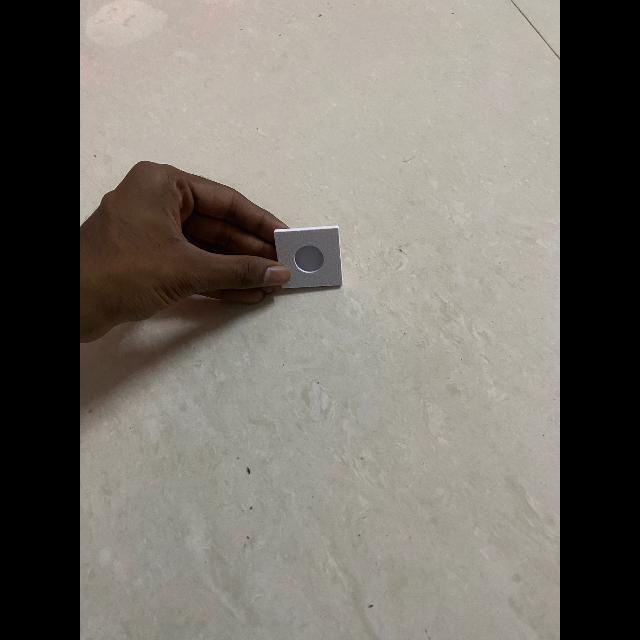RASPBERY PI CAM ENCLOSURE: (274, 226, 342, 288)
